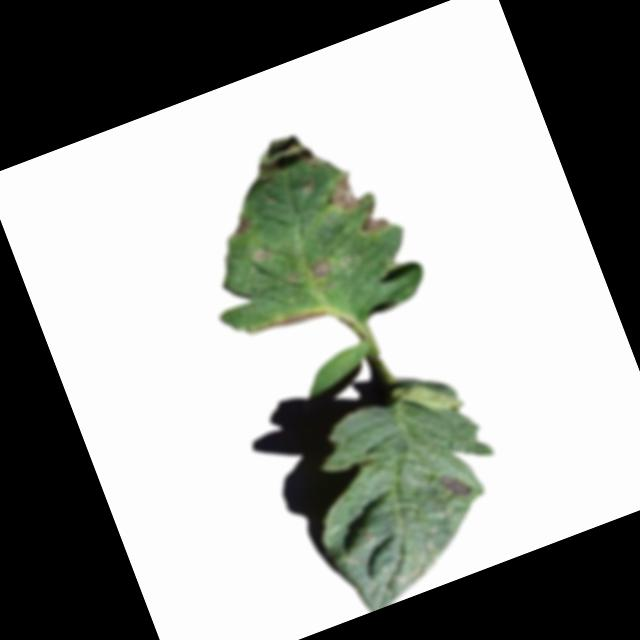Early_blight: (246, 127, 321, 186), (252, 301, 333, 344), (319, 169, 367, 219), (354, 199, 393, 239), (439, 467, 475, 504), (227, 211, 253, 239), (307, 258, 334, 282)
